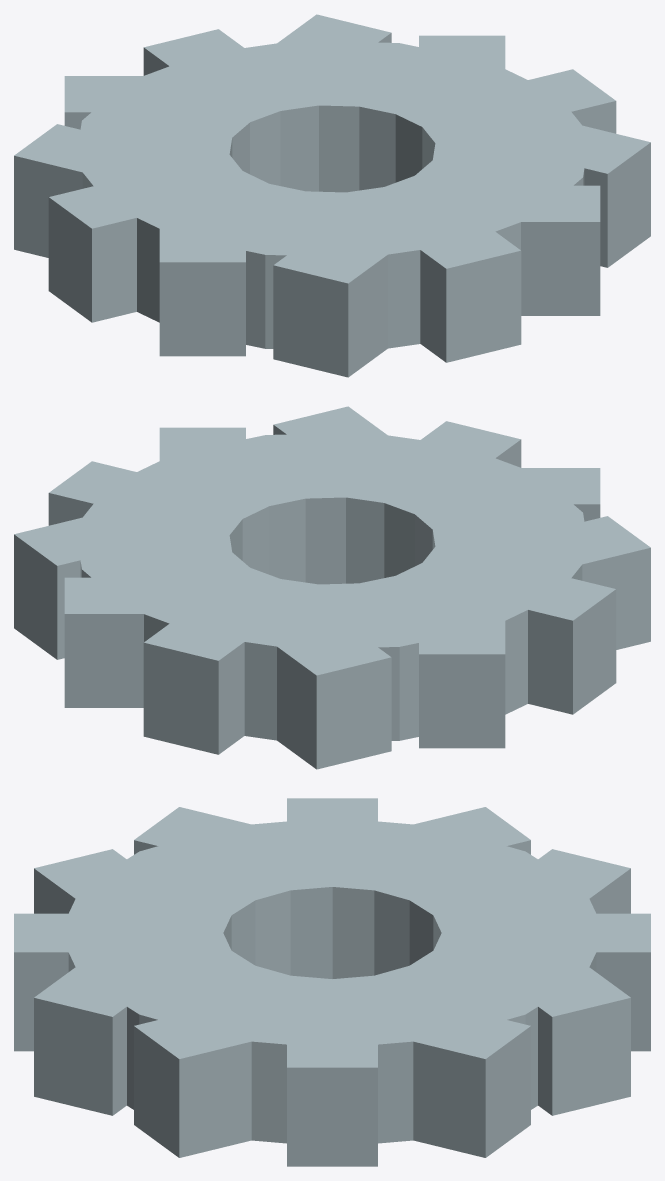
Rendered from machined-spur-gear.glb.
3 views of the same model, one above another, from view 1: azimuth 30°, elevation 25°; view 2: azimuth 150°, elevation 25°; view 3: azimuth 270°, elevation 25° (orthographic). The views are drawn at different scales.
Visible parts, largest first — view 1: steel; view 2: steel; view 3: steel.
Boxes of the visible parts, x1,y1,x2,y2 form: steel: (14, 14, 650, 377); steel: (14, 406, 650, 769); steel: (14, 798, 650, 1166).
Bounding box in the file's own units: 0.7 × 0.12 × 0.7.
